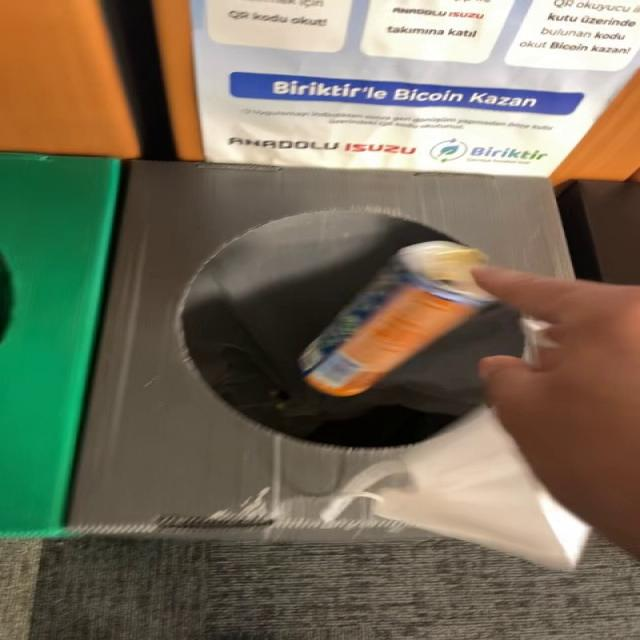bin: (68, 161, 574, 540)
metal: (299, 241, 496, 396)
